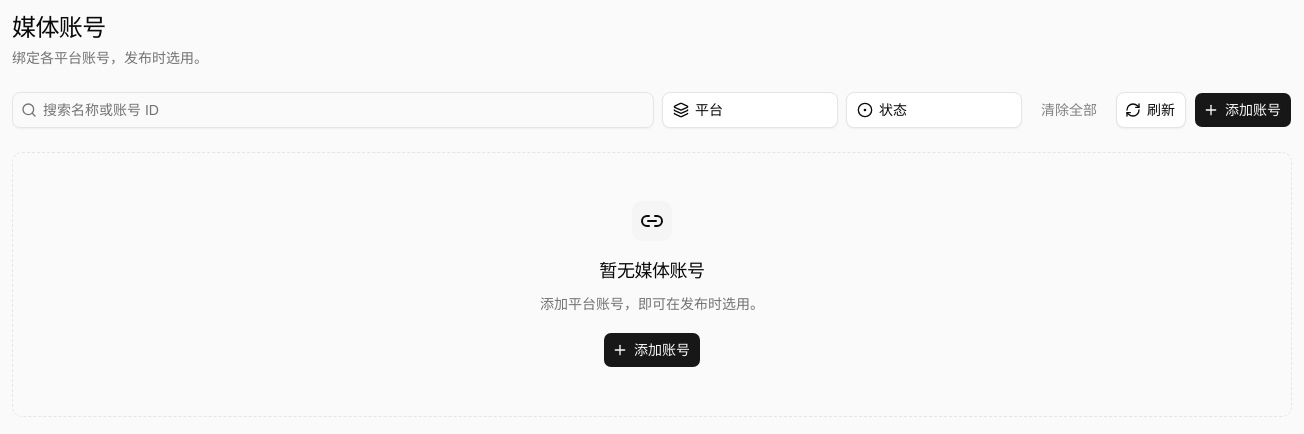
Test case: offers adding an account directly from the empty list
Expected: the text "暂无媒体账号" is shown, [599,257,705,285]
Step 1. Click the button "添加账号" below "添加平台账号，即可在发布时选用。" → (652, 350), box [603,332,701,368]
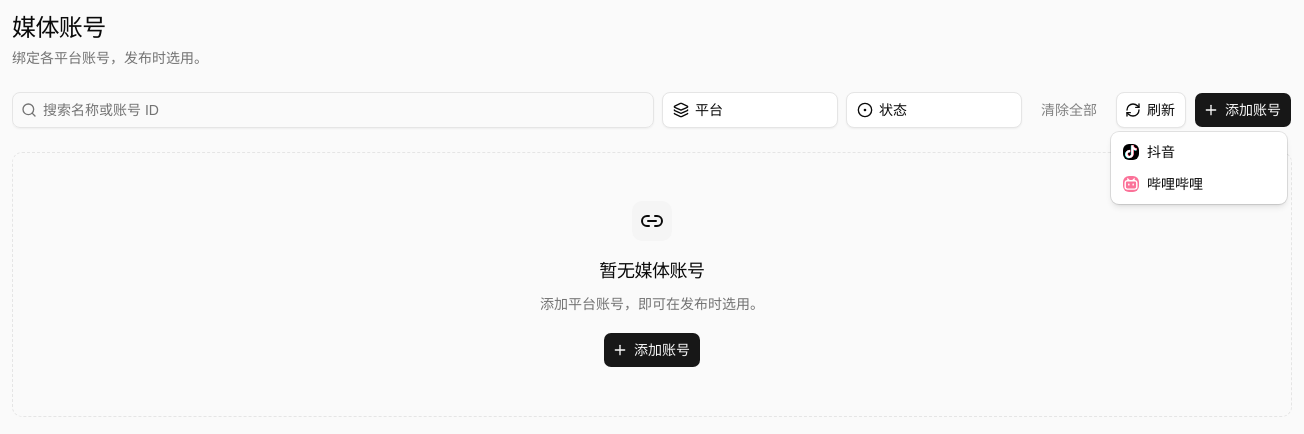
Expected: the menu item "抖音" is shown, [1123,144,1175,160]
